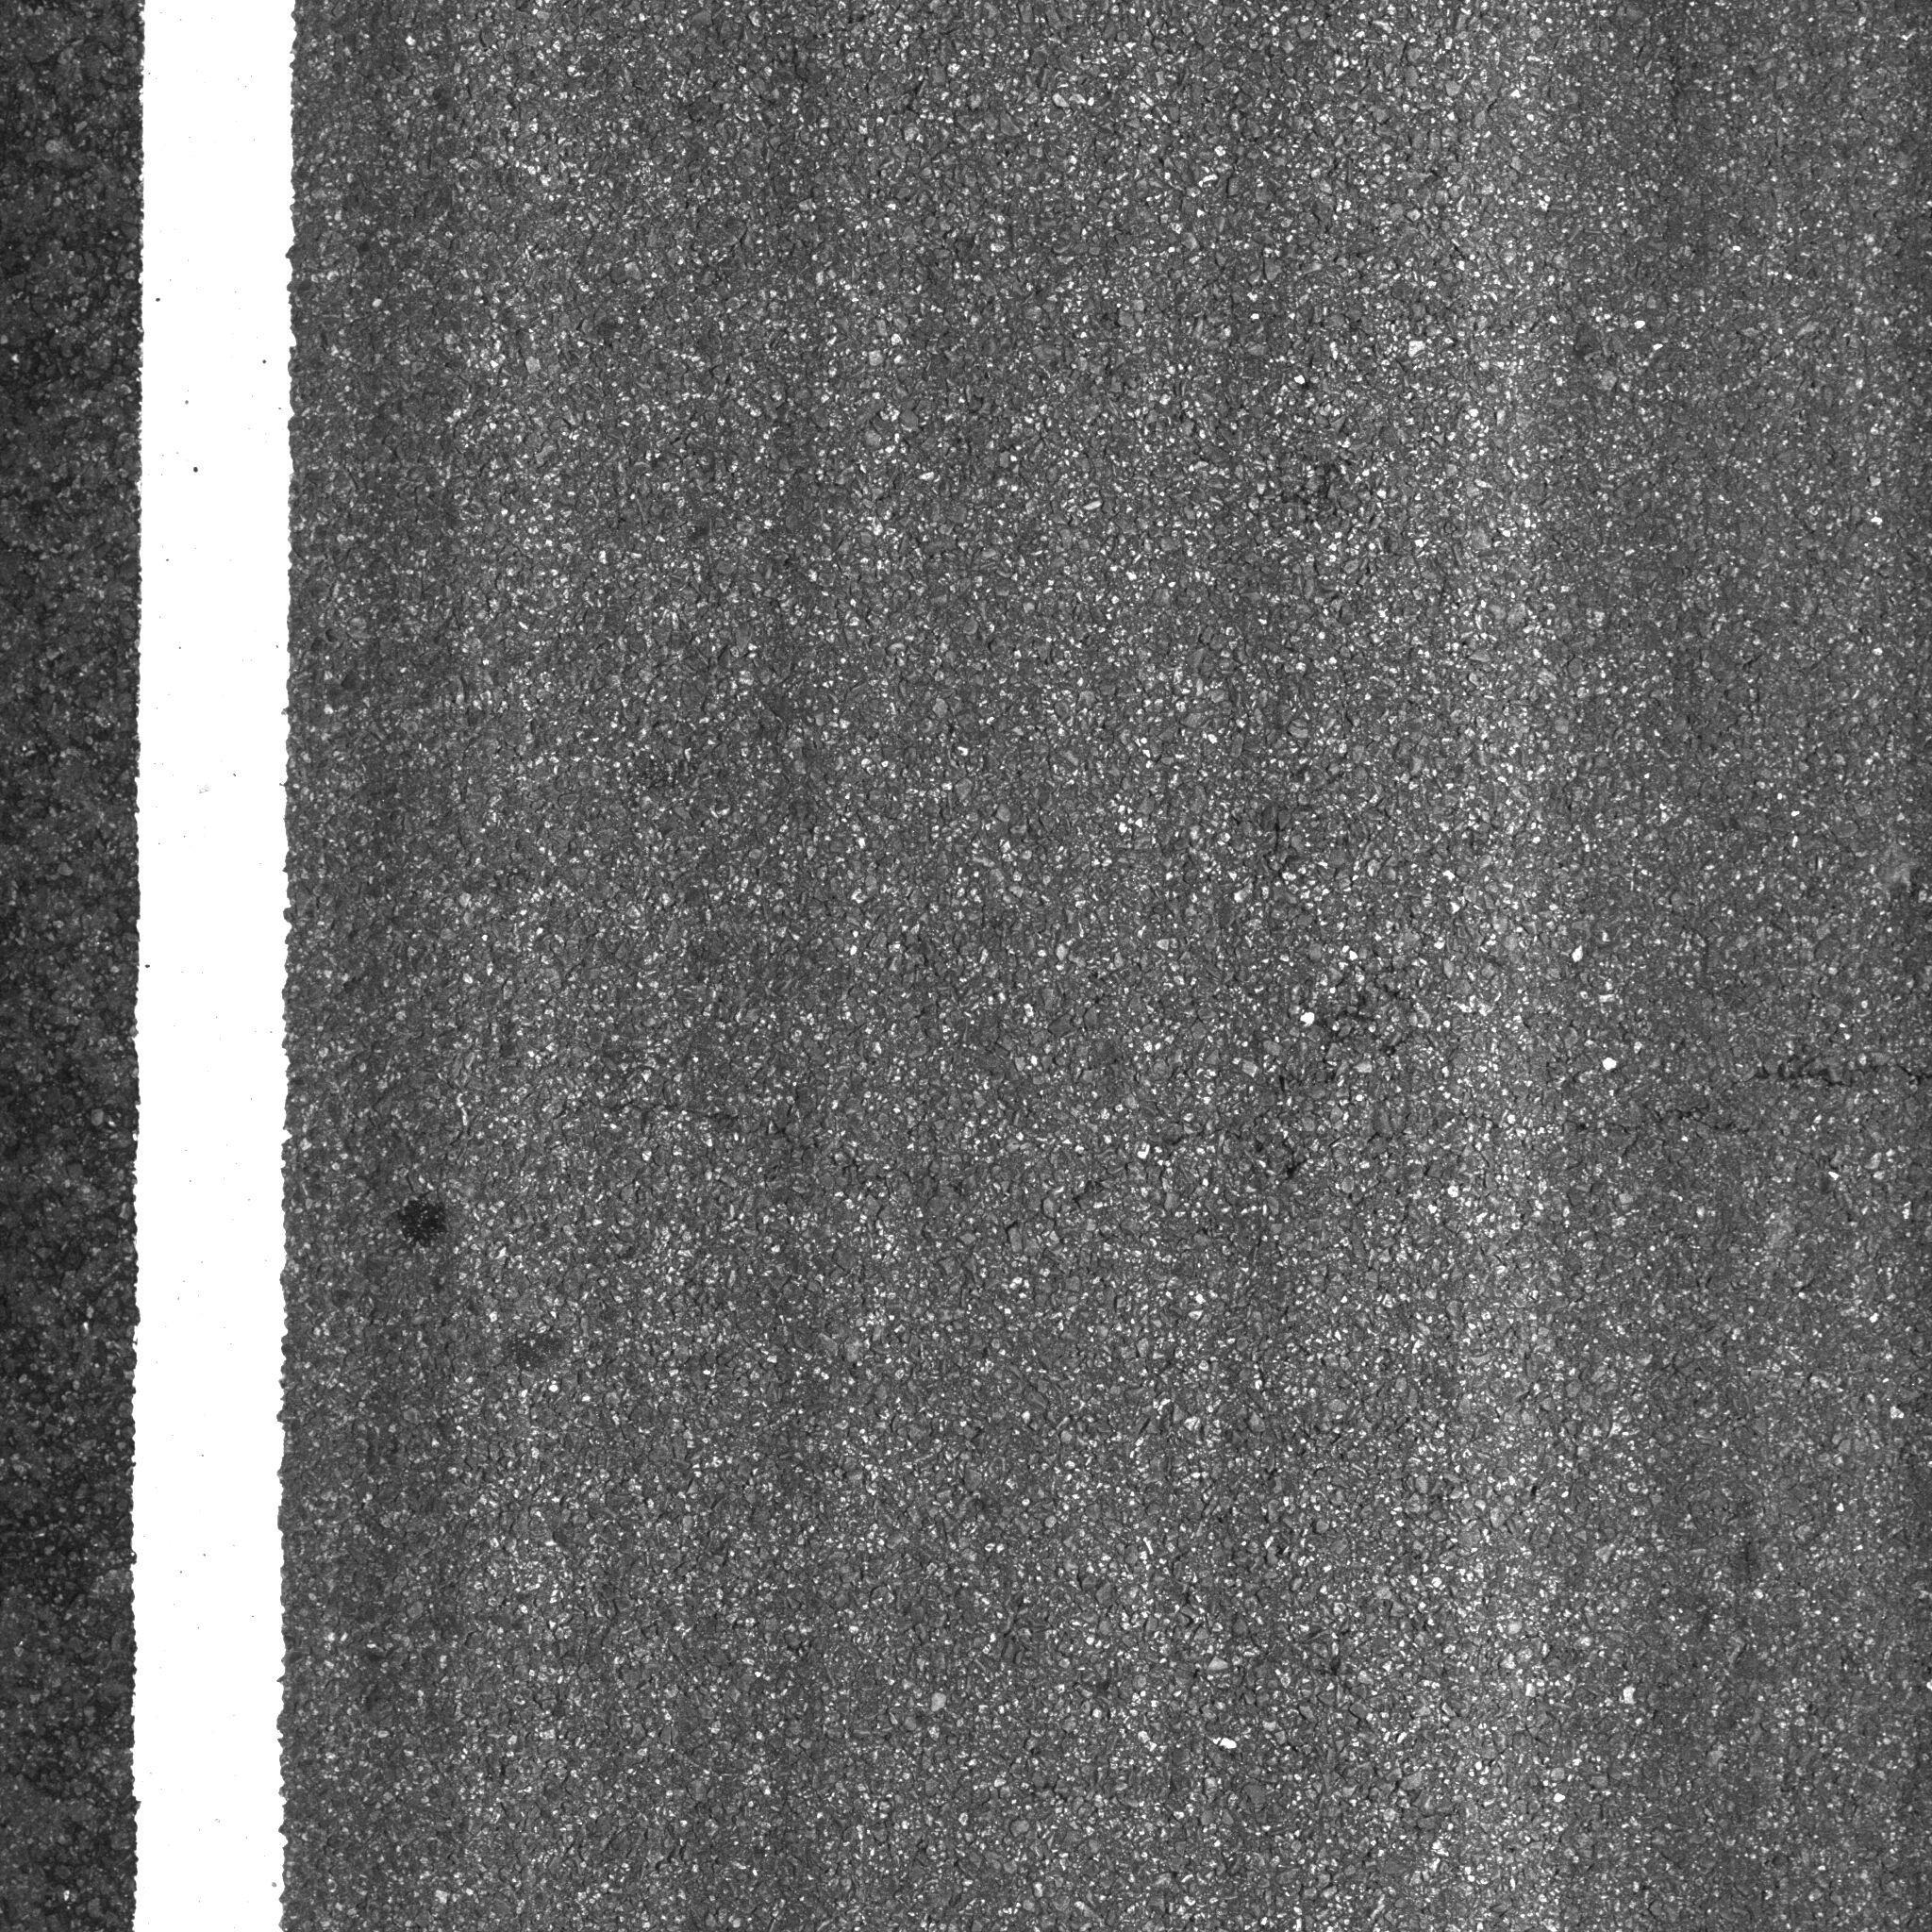transeverse: (460, 1044, 1928, 1212)
